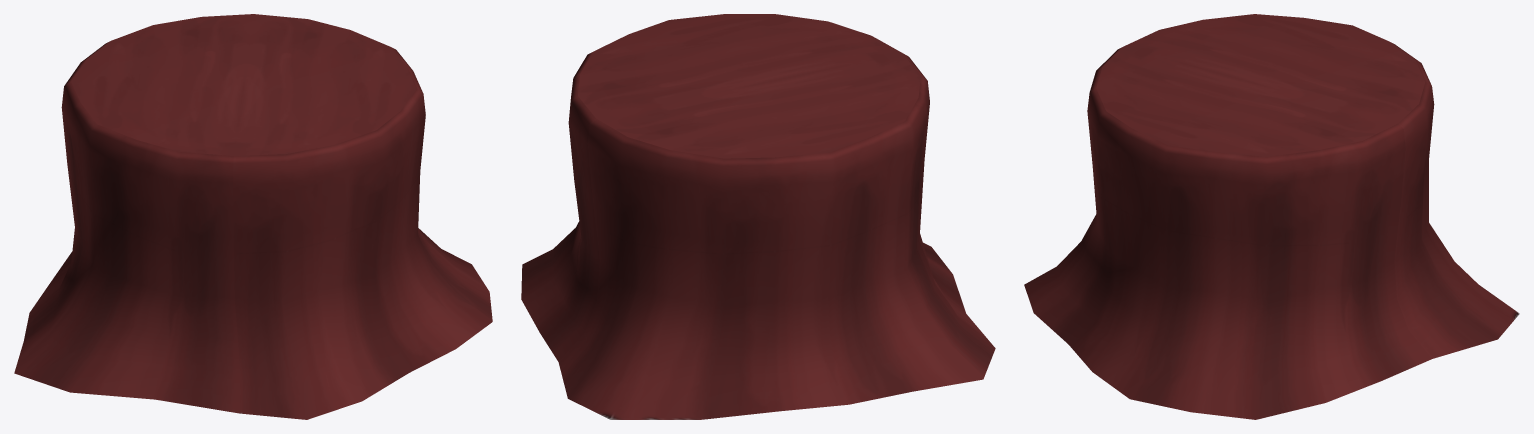
File: FortuneTeller_Tablecloth_Long_Scaled.fbx
3 renders of one model, left to right at view 1: azimuth 30°, elevation 25°; view 2: azimuth 150°, elevation 25°; view 3: azimuth 270°, elevation 25°, orthographic. The views are drawn at different scales.
Visible parts, largest first — view 1: Tablecloth_Long; view 2: Tablecloth_Long; view 3: Tablecloth_Long.
Boxes of the visible parts, x1,y1,x2,y2 form: Tablecloth_Long: [14, 14, 492, 419]; Tablecloth_Long: [521, 14, 995, 419]; Tablecloth_Long: [1024, 14, 1519, 419].
Bounding box in the file's own units: 136 × 66.5 × 131.
